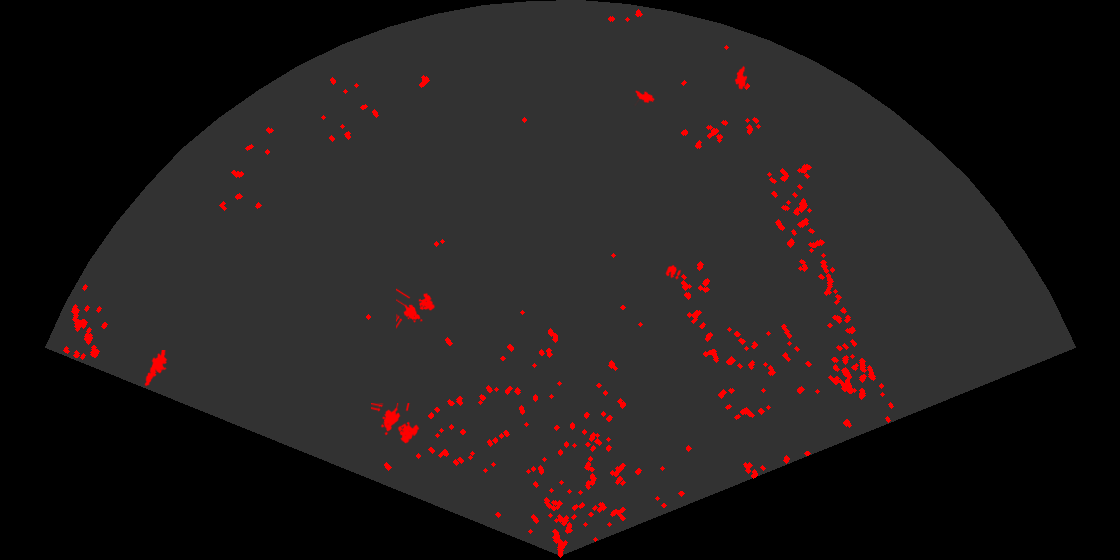AUV: (733, 64, 749, 91), (633, 89, 656, 107)
ball: (664, 263, 683, 281)
cage: (371, 403, 421, 445), (396, 287, 437, 330)
frogman: (143, 350, 169, 388)
